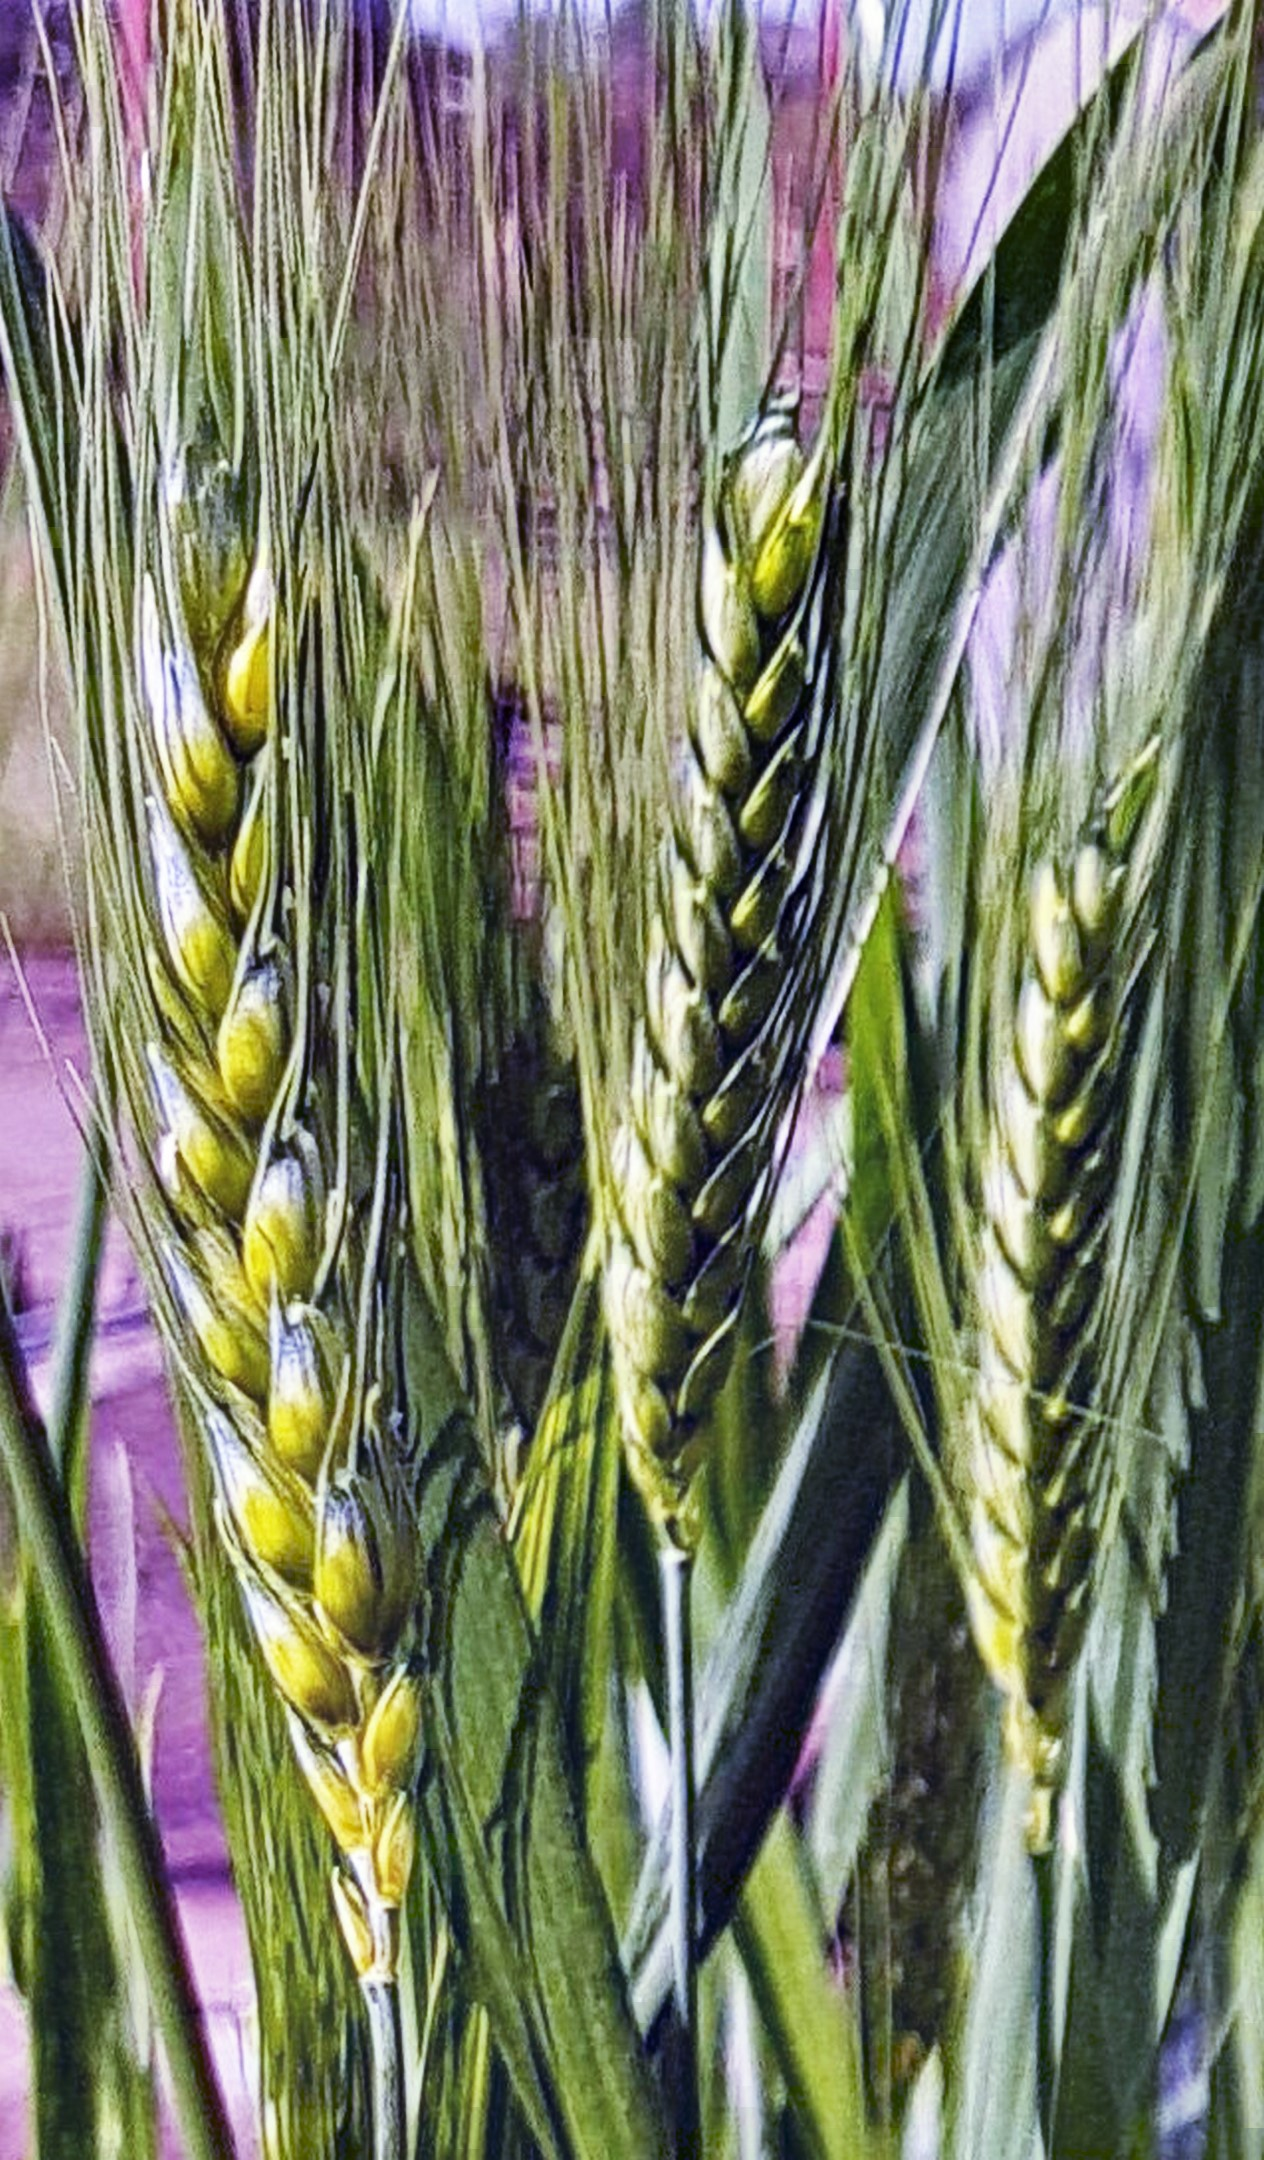Healthy Wheat: (585, 420, 870, 1473)
